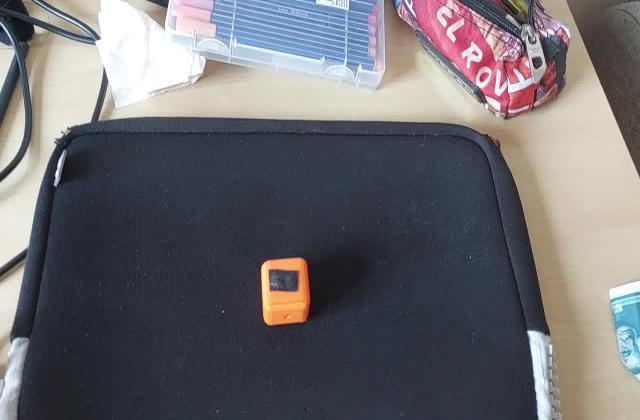black: (266, 267, 303, 296)
sticker: (258, 255, 314, 328)
